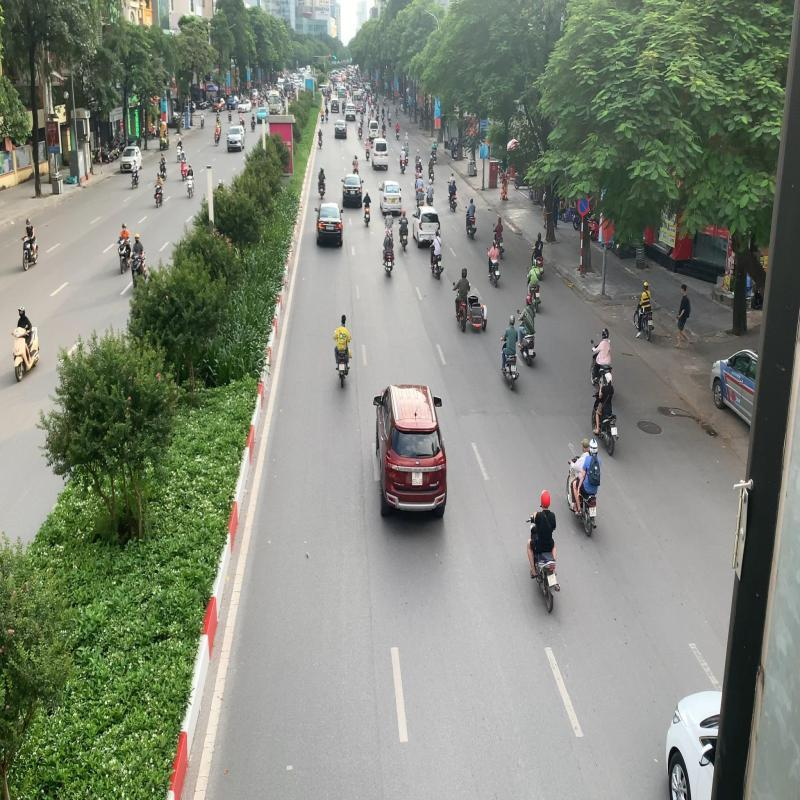helmet: (540, 489, 551, 507), (590, 438, 598, 454), (604, 372, 612, 384)
licenseplate: (546, 573, 557, 587), (589, 507, 597, 518), (610, 426, 618, 435), (339, 364, 345, 372)
motorcyclist: (526, 488, 561, 613), (566, 438, 602, 538), (591, 372, 619, 457), (332, 314, 352, 389)
nohelmet: (582, 438, 588, 451), (341, 314, 346, 326)
